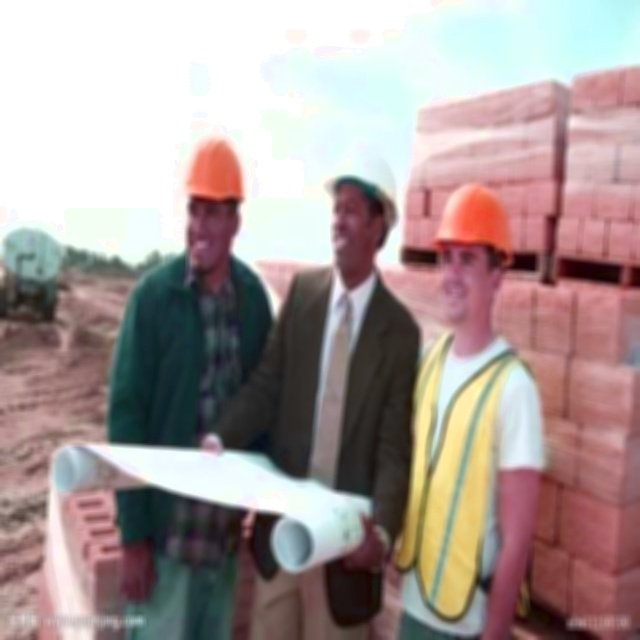Con_Casco: (435, 181, 514, 319), (181, 129, 245, 270)
Con_Chaleco: (405, 333, 544, 611)
